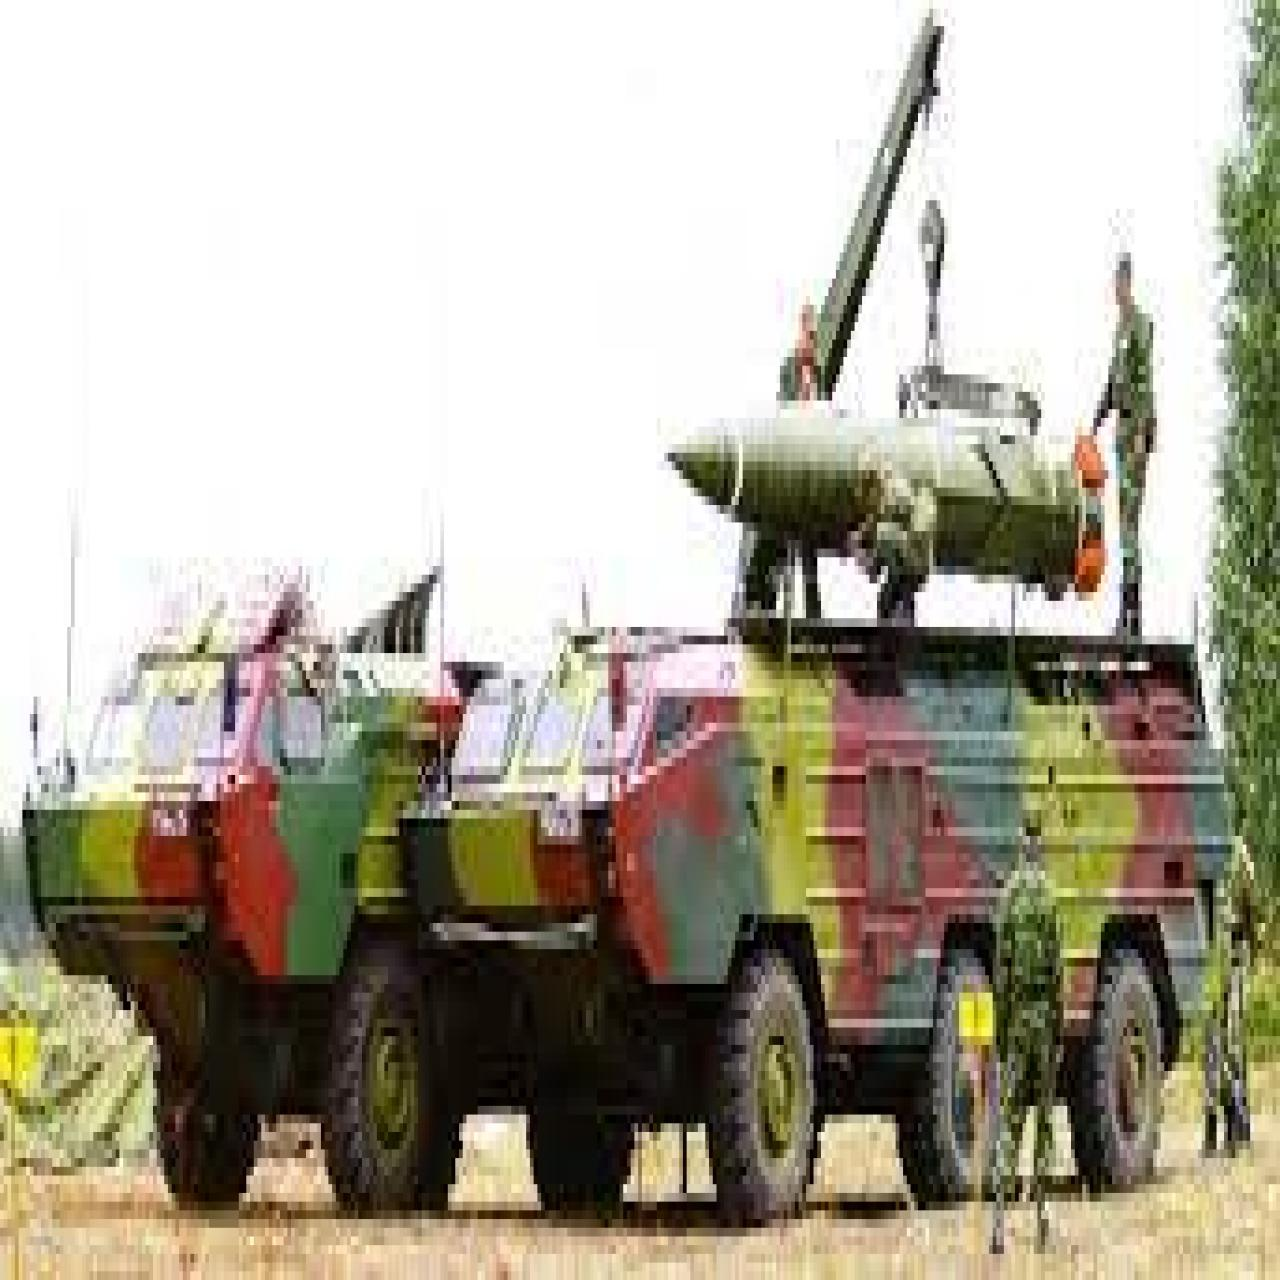MIL_Veh: (426, 385, 1234, 1210), (32, 598, 503, 1210)
